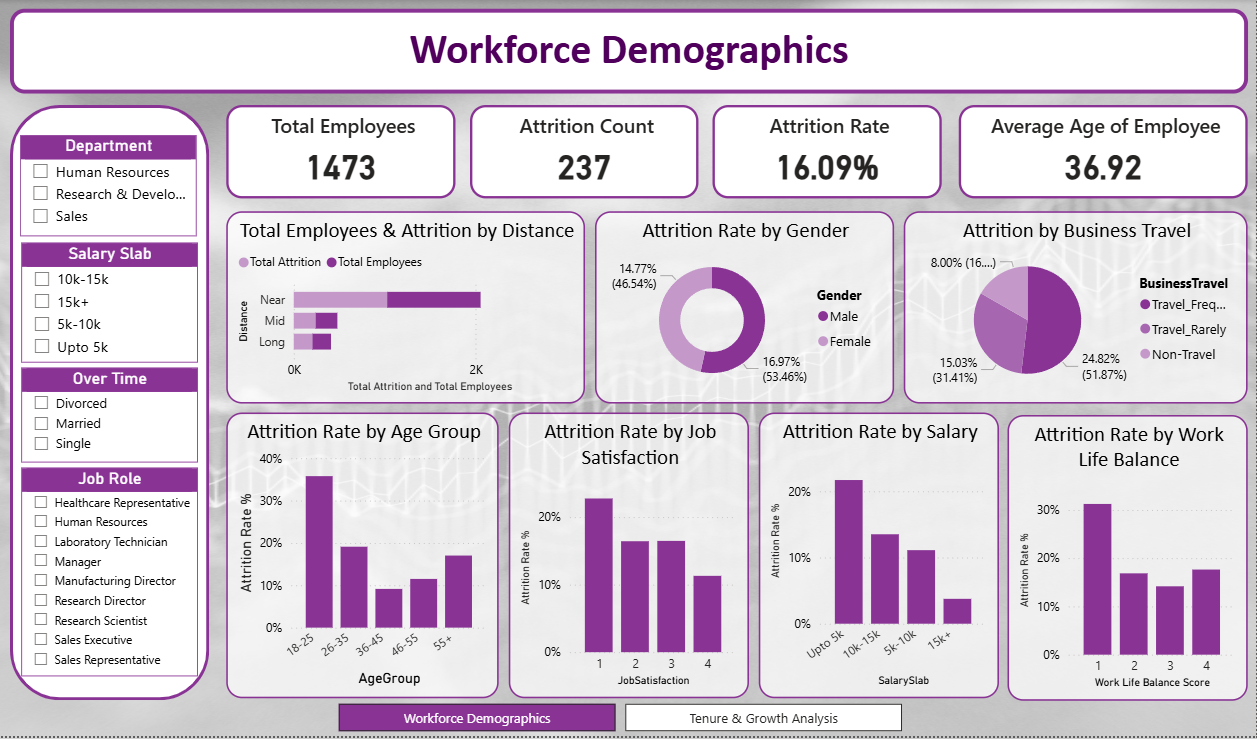

Layout of this report page (visuals, bound fields, positions):
{"tool":"powerbi","page":{"name":"Workforce Demographics","canvas":[1280,750],"ordinal":0},"visuals":[{"type":"textbox","box":[9.8,8.6,1262,86],"z":0},{"type":"card","title":"Attrition Count","fields":{"Values":["HR_Analytics_Cleaned.Attrition Count"]},"box":[479.4,107.6,233,95.4],"z":1000},{"type":"card","title":"Total Employees","fields":{"Values":["HR_Analytics_Cleaned.Total Employees"]},"box":[231.1,107.6,233.6,95.4],"z":2000},{"type":"card","title":"Attrition Rate","fields":{"Values":["HR_Analytics_Cleaned.Attrition Rate %"]},"box":[726.4,107.6,233.6,95.4],"z":3000},{"type":"shape","box":[9.8,107.6,203,606.5],"z":4000},{"type":"barChart","title":"Total Employees & Attrition by Distance","fields":{"Category":["HR_Analytics_Cleaned.Distance"],"Y":["CountNonNull(HR_Analytics_Cleaned.Attrition)","CountNonNull(HR_Analytics_Cleaned.EmpID)"]},"box":[230.6,215.3,365.6,196.2],"z":5000},{"type":"columnChart","title":"Attrition Rate by Work Life Balance","fields":{"Category":["HR_Analytics_Cleaned.WorkLifeBalance"],"Y":["HR_Analytics_Cleaned.Attrition Rate %"]},"box":[1027.2,423.1,244.6,291],"z":6000},{"type":"columnChart","title":"Attrition Rate by Salary","fields":{"Y":["HR_Analytics_Cleaned.Attrition Rate %"],"Category":["HR_Analytics_Cleaned.SalarySlab"]},"box":[772.8,420.7,244.6,291],"z":7000},{"type":"slicer","title":"Department","fields":{"Values":["HR_Analytics_Cleaned.Department"]},"box":[20.4,137.6,179.6,103.2],"z":8000},{"type":"donutChart","title":"Attrition Rate by Gender","fields":{"Category":["HR_Analytics_Cleaned.Gender"],"Y":["HR_Analytics_Cleaned.Attrition Rate %"]},"box":[606.3,215.3,304.4,196.2],"z":9000},{"type":"columnChart","title":"Attrition Rate  by Job Satisfaction","fields":{"Category":["HR_Analytics_Cleaned.JobSatisfaction"],"Y":["HR_Analytics_Cleaned.Attrition Rate %"]},"box":[518.5,420.7,244.6,291],"z":10000},{"type":"slicer","title":"Salary Slab","fields":{"Values":["HR_Analytics_Cleaned.SalarySlab"]},"box":[21.7,247.1,179.6,122.3],"z":11000},{"type":"pieChart","title":"Attrition by Business Travel","fields":{"Category":["HR_Analytics_Cleaned.BusinessTravel"],"Y":["HR_Analytics_Cleaned.Attrition Rate %"]},"box":[920.9,215.3,350.3,196.2],"z":12000},{"type":"clusteredColumnChart","title":"Attrition Rate by Age Group","fields":{"Y":["HR_Analytics_Cleaned.Attrition Rate %"],"Category":["HR_Analytics_Cleaned.AgeGroup"]},"box":[231.1,420.7,277.6,291],"z":13000},{"type":"slicer","title":"Over Time","fields":{"Values":["HR_Analytics_Cleaned.MaritalStatus"]},"box":[21.7,374.5,179.6,96.8],"z":14000},{"type":"slicer","title":"Job Role","fields":{"Values":["HR_Analytics_Cleaned.JobRole"]},"box":[21.7,476.4,179.6,212.7],"z":15000},{"type":"card","title":"Average Age of Employee","fields":{"Values":["Avg(HR_Analytics_Cleaned.Age)"]},"box":[977,107.6,294.7,95.4],"z":16000},{"type":"pageNavigator","box":[345.2,717.1,575.8,28],"z":17000}]}

Visuals, with their boxes in screenshot pixels (x1, y1, x2, y2), scaled from the page's 1280x750 canvas onto the 1257x739 screenshot:
textbox: bbox(10, 8, 1249, 93)
"Attrition Count" card: bbox(471, 106, 700, 200)
"Total Employees" card: bbox(227, 106, 456, 200)
"Attrition Rate" card: bbox(713, 106, 943, 200)
shape: bbox(10, 106, 209, 704)
"Total Employees & Attrition by Distance" barChart: bbox(226, 212, 585, 405)
"Attrition Rate by Work Life Balance" columnChart: bbox(1009, 417, 1249, 704)
"Attrition Rate by Salary" columnChart: bbox(759, 415, 999, 701)
"Department" slicer: bbox(20, 136, 196, 237)
"Attrition Rate by Gender" donutChart: bbox(595, 212, 894, 405)
"Attrition Rate  by Job Satisfaction" columnChart: bbox(509, 415, 749, 701)
"Salary Slab" slicer: bbox(21, 243, 198, 364)
"Attrition by Business Travel" pieChart: bbox(904, 212, 1248, 405)
"Attrition Rate by Age Group" clusteredColumnChart: bbox(227, 415, 500, 701)
"Over Time" slicer: bbox(21, 369, 198, 464)
"Job Role" slicer: bbox(21, 469, 198, 679)
"Average Age of Employee" card: bbox(959, 106, 1249, 200)
pageNavigator: bbox(339, 707, 904, 734)
